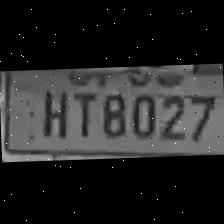0: (125, 88, 157, 138)
2: (154, 88, 186, 140)
7: (182, 87, 214, 142)
8: (94, 87, 128, 137)
H: (34, 84, 70, 138)
T: (66, 86, 97, 138)
